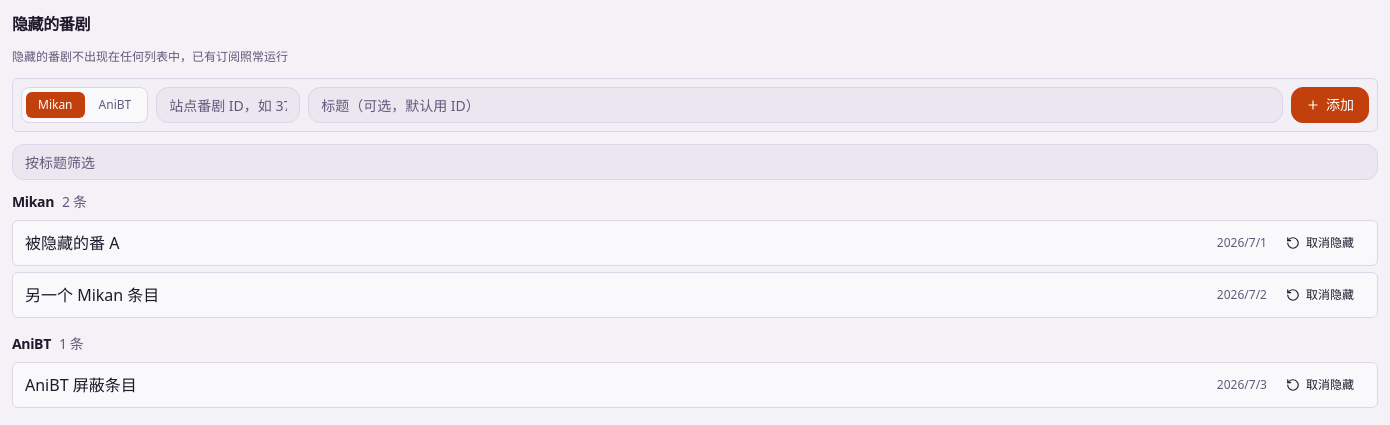
it: HiddenAnimeSettings › 顶部筛选框按标题过滤，分组计数同步
The image size is (1390, 425).
Type "番 A" into the field labelled "按标题筛选". click: coordinates (695, 162)
box: [12,144,1378,180]
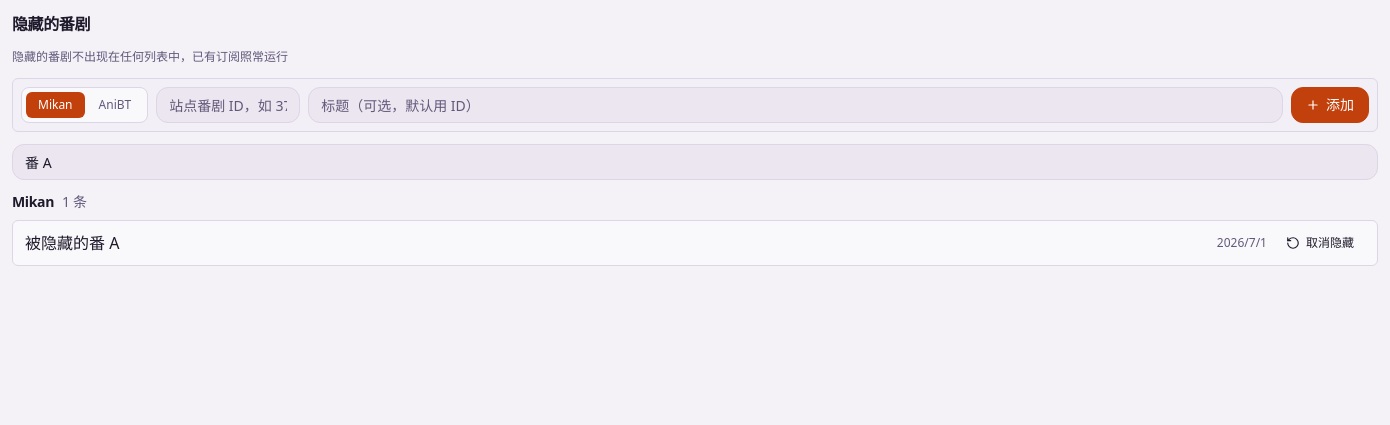
expect the text "被隐藏的番 A" is shown: met, box [25,232,119,254]
expect the text "另一个 Mikan 条目" is gone: met
expect the text "AniBT 屏蔽条目" is gone: met
